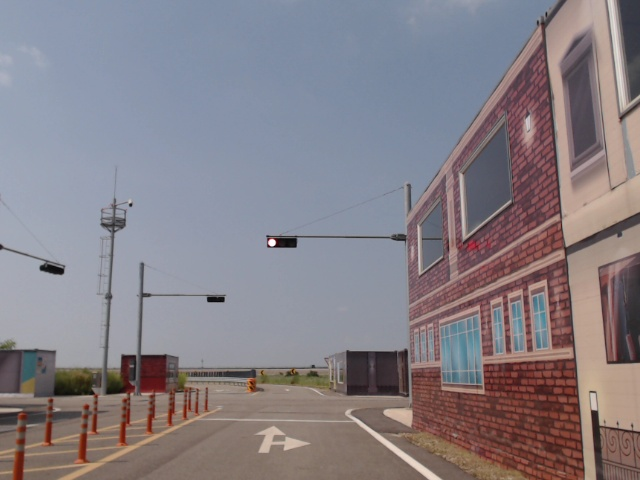red_3: (268, 239, 296, 248)
